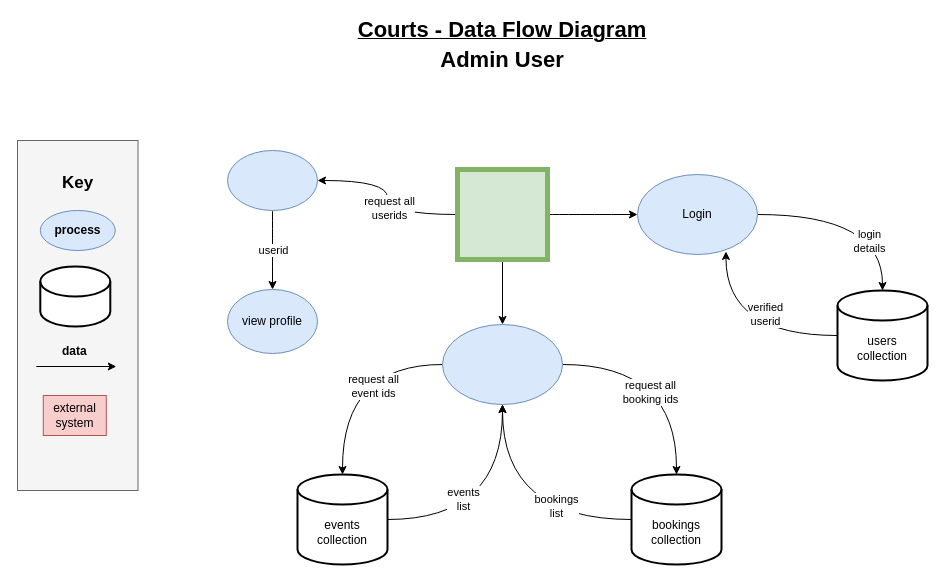
This 946x582 diagram has some shape labels left out. The centre of each missing label's shape, as x and y in pixels:
"Admin" goes at (x=502, y=214).
"collection" goes at (x=75, y=296).
"show calendar" goes at (x=502, y=364).
"view all profiles" goes at (x=272, y=180).
